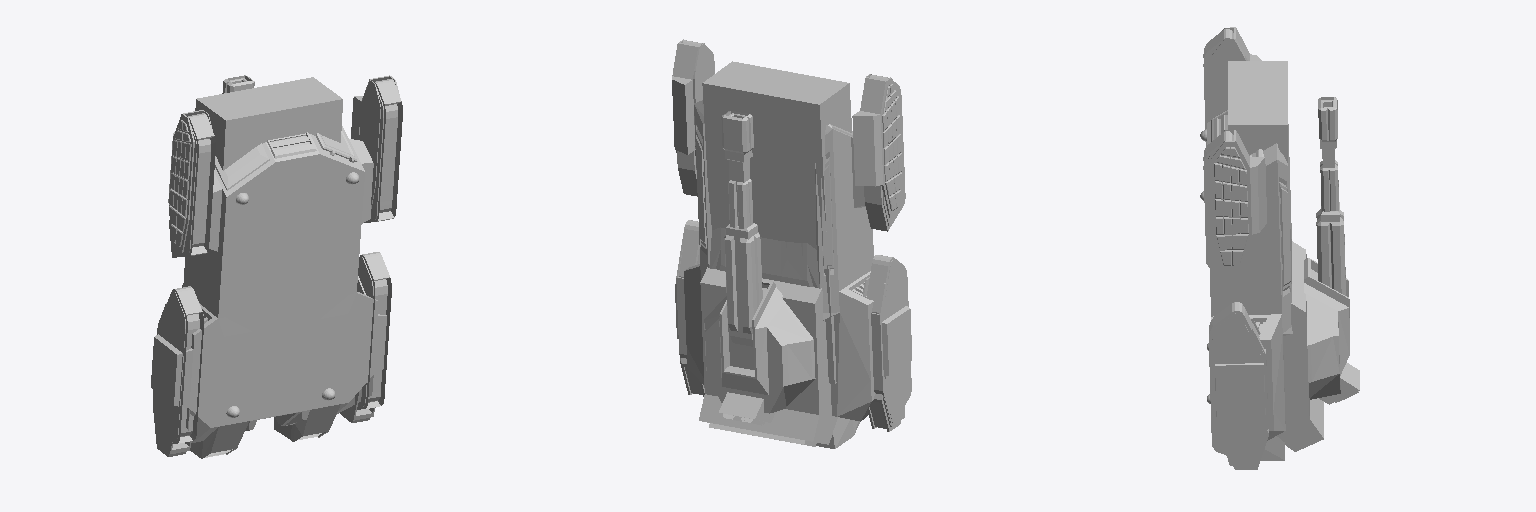
File: tank_5.obj
3 renders of one model, left to right at view 1: azimuth 30°, elevation 25°; view 2: azimuth 150°, elevation 25°; view 3: azimuth 270°, elevation 25°, orthographic.
Visible parts, largest first — view 1: Cube_Cube.002, Cube_Cube.001, Orugas_2_Cubo.004, Orugas_Cubo, Cubre_Orugas_2_Cube.001, Cubre_Orugas_Cube; view 2: Cube_Cube.002, Cube_Cube.001, Torreta_Cubo.002, Cubre_Orugas_2_Cube.001, Centro_Cubo.001, Orugas_Cubo, Cubre_Orugas_Cube, Cañon.001_Cubo.009, Orugas_2_Cubo.004, Cañon_Cubo.003, Cañon.003_Cubo.011, Cañon.002_Cubo.010; view 3: Cube_Cube.002, Cubre_Orugas_2_Cube.001, Torreta_Cubo.002, Orugas_Cubo, Cube_Cube.001, Centro_Cubo.001, Orugas_2_Cubo.004, Cañon.001_Cubo.009, Cañon.002_Cubo.010, Cañon.003_Cubo.011, Cañon_Cubo.003, Cubre_Orugas_Cube.
Part boxes in pixels (bbox=[...]): Cube_Cube.002: bbox=[151, 126, 386, 458]; Cube_Cube.001: bbox=[195, 77, 342, 170]; Orugas_2_Cubo.004: bbox=[169, 79, 402, 257]; Orugas_Cubo: bbox=[153, 252, 391, 443]; Cubre_Orugas_2_Cube.001: bbox=[168, 75, 399, 252]; Cubre_Orugas_Cube: bbox=[153, 276, 375, 456]; Cube_Cube.002: bbox=[675, 100, 911, 448]; Cube_Cube.001: bbox=[702, 61, 851, 383]; Torreta_Cubo.002: bbox=[704, 280, 815, 425]; Cubre_Orugas_2_Cube.001: bbox=[672, 39, 902, 217]; Centro_Cubo.001: bbox=[699, 267, 837, 446]; Orugas_Cubo: bbox=[679, 220, 911, 426]; Cubre_Orugas_Cube: bbox=[676, 246, 905, 431]; Cañon.001_Cubo.009: bbox=[724, 232, 762, 333]; Orugas_2_Cubo.004: bbox=[677, 40, 905, 231]; Cañon_Cubo.003: bbox=[725, 113, 757, 346]; Cañon.003_Cubo.011: bbox=[721, 111, 753, 154]; Cañon.002_Cubo.010: bbox=[728, 179, 752, 228]; Cube_Cube.002: bbox=[1207, 110, 1292, 460]; Cubre_Orugas_2_Cube.001: bbox=[1211, 27, 1266, 270]; Torreta_Cubo.002: bbox=[1304, 258, 1359, 404]; Orugas_Cubo: bbox=[1209, 287, 1266, 465]; Cube_Cube.001: bbox=[1228, 61, 1287, 162]; Centro_Cubo.001: bbox=[1277, 241, 1323, 451]; Orugas_2_Cubo.004: bbox=[1203, 29, 1252, 281]; Cañon.001_Cubo.009: bbox=[1316, 209, 1345, 295]; Cañon.002_Cubo.010: bbox=[1320, 160, 1338, 211]; Cañon.003_Cubo.011: bbox=[1318, 97, 1337, 141]; Cañon_Cubo.003: bbox=[1320, 100, 1340, 274]; Cubre_Orugas_Cube: bbox=[1227, 318, 1268, 469].
Bounding box in the file's own units: 2.97 × 4.55 × 1.81.